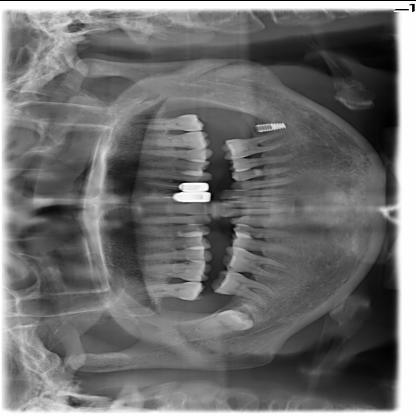Bicon: (253, 120, 287, 132)
